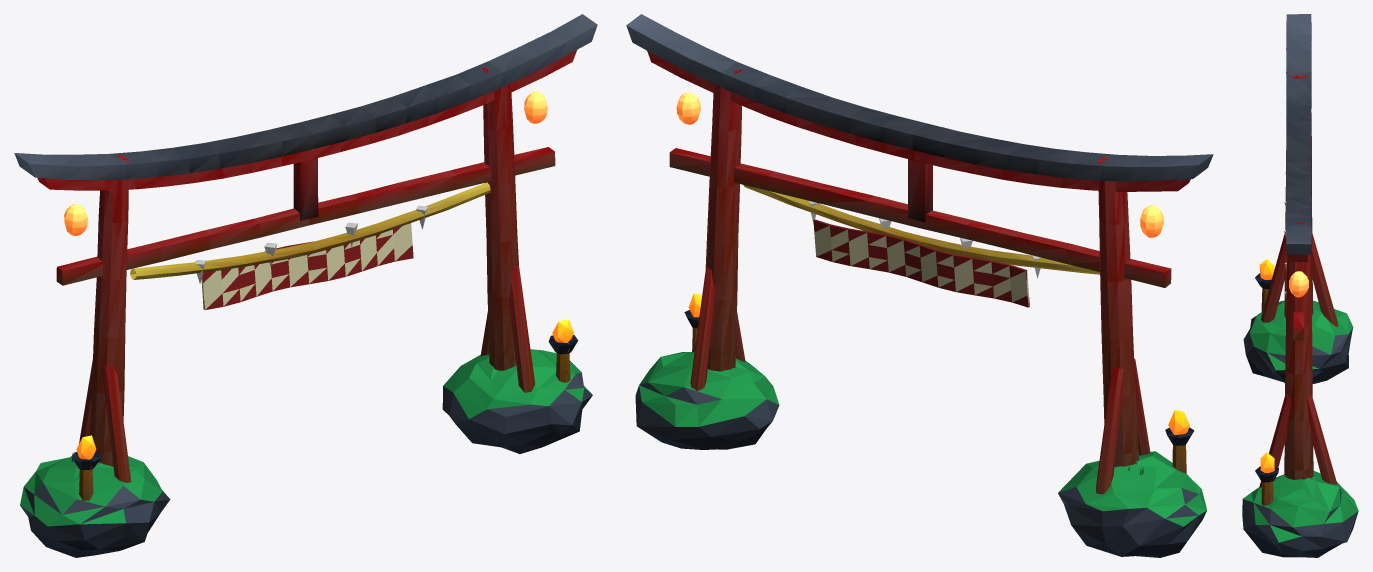
File: riverrush_torii_gate_kinect_2010360 (1).glb
3 renders of one model, left to right at view 1: azimuth 30°, elevation 25°; view 2: azimuth 150°, elevation 25°; view 3: azimuth 270°, elevation 25°, orthographic. The views are drawn at different scales.
Visible parts, largest first — view 1: Gerbang_Checkpoint_Kayu_Jepang; view 2: Gerbang_Checkpoint_Kayu_Jepang; view 3: Gerbang_Checkpoint_Kayu_Jepang.
Part boxes in pixels (bbox=[...]): Gerbang_Checkpoint_Kayu_Jepang: bbox=[14, 14, 597, 557]; Gerbang_Checkpoint_Kayu_Jepang: bbox=[626, 14, 1213, 557]; Gerbang_Checkpoint_Kayu_Jepang: bbox=[1242, 14, 1358, 557].
Size of the model in its own units: 14.72 by 10.09 by 3.14.
